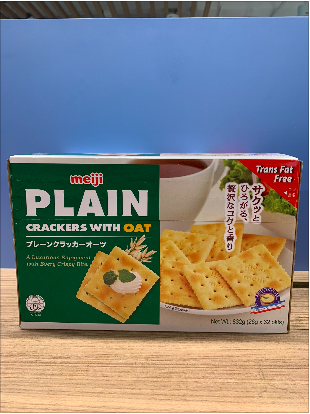Crackers_800-899g: (18, 160, 287, 326)
